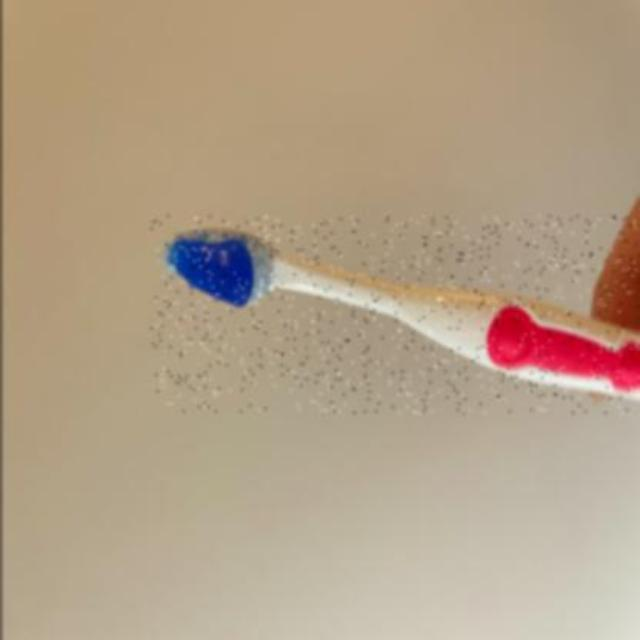toothbrush: (150, 216, 640, 414)
